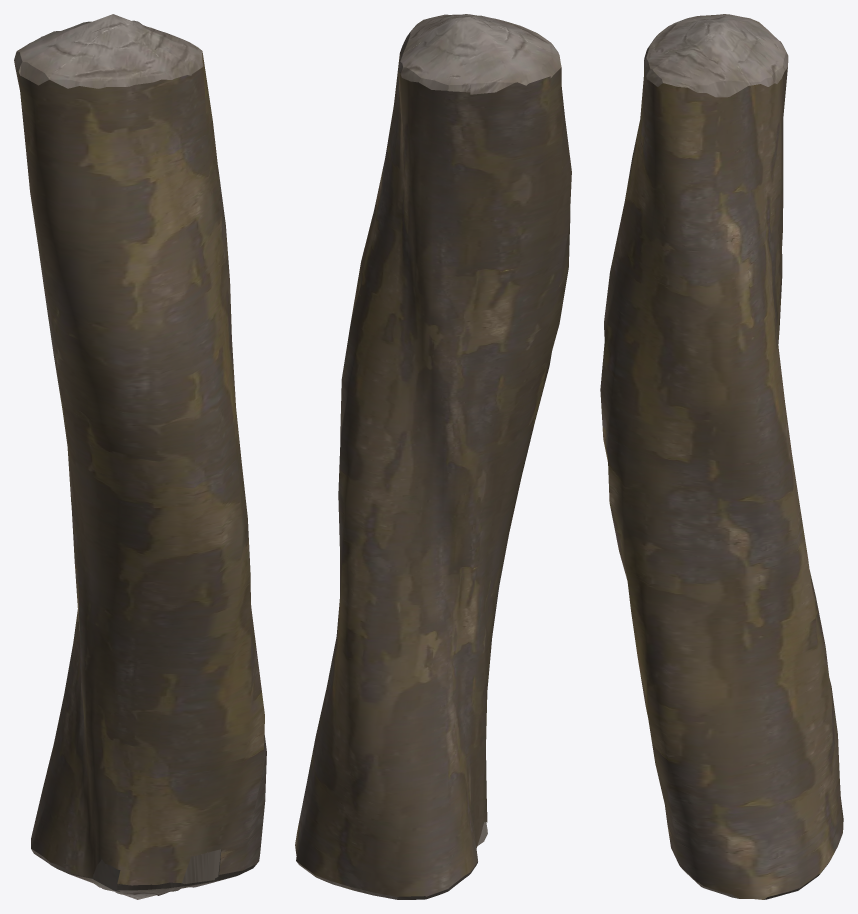
3 views of the same model, side by side, from view 1: azimuth 30°, elevation 25°; view 2: azimuth 150°, elevation 25°; view 3: azimuth 270°, elevation 25° (orthographic). The views are drawn at different scales.
Visible parts, largest first — view 1: SM_Yew_02_half_bottom_LOD0; view 2: SM_Yew_02_half_bottom_LOD0; view 3: SM_Yew_02_half_bottom_LOD0.
Part boxes in pixels (box(x1,y1,x2,y2)): SM_Yew_02_half_bottom_LOD0: box(14, 14, 266, 899); SM_Yew_02_half_bottom_LOD0: box(295, 14, 571, 899); SM_Yew_02_half_bottom_LOD0: box(600, 14, 843, 899).
Bounding box in the file's own units: 1.25 × 4.46 × 1.18.
Materials: 1 (1 with a texture image).
